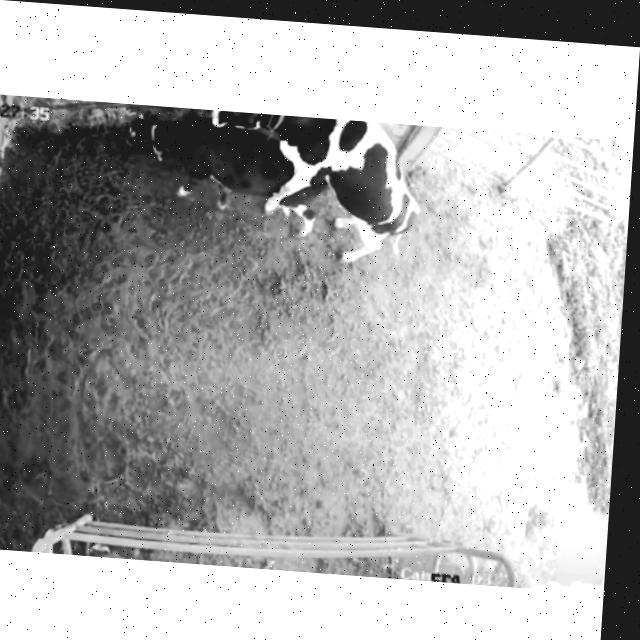ride: (199, 109, 428, 283)
